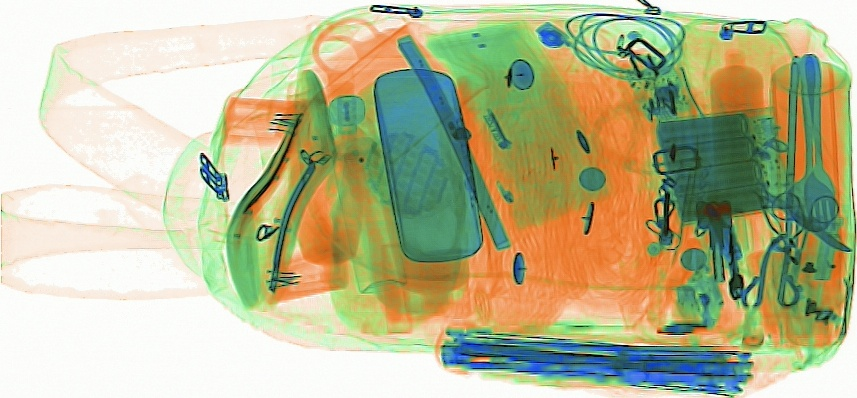powerbank: (656, 103, 785, 227)
pressure: (327, 122, 409, 299)
